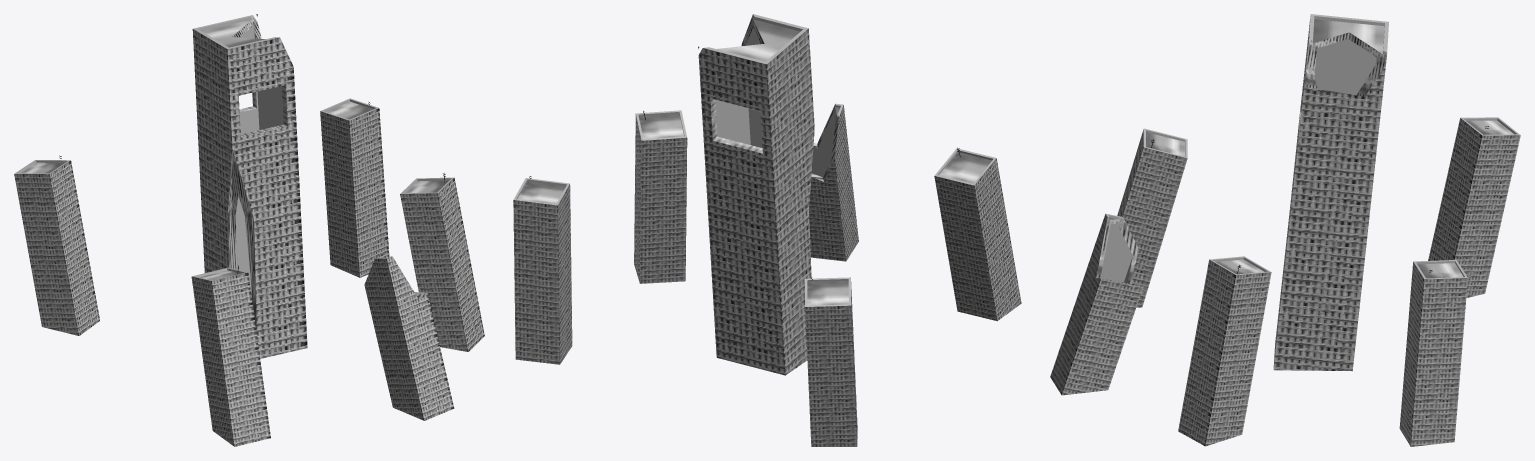
File: SM_UnderwaterCity.fbx
3 renders of one model, left to right at view 1: azimuth 30°, elevation 25°; view 2: azimuth 150°, elevation 25°; view 3: azimuth 270°, elevation 25°, orthographic. The views are drawn at different scales.
Parts seen in each view (by area): view 1: Cube.009, Cube.012, Cube.011, Cube.008, Cube.010, Buildings; view 2: Cube.009, Cube.008, Cube.011, Cube.010, Cube.012, Buildings; view 3: Cube.009, Cube.010, Cube.011, Cube.012, Buildings, Cube.008.
Boxes of the visible parts, x1,y1,x2,y2 form: Cube.009: (192,14,307,358); Cube.012: (14,155,99,335); Cube.011: (320,98,389,277); Cube.008: (191,265,270,446); Cube.010: (400,173,484,351); Buildings: (364,256,454,420); Cube.009: (698,14,814,375); Cube.008: (934,147,1021,321); Cube.011: (513,176,572,364); Cube.010: (634,110,687,283); Cube.012: (805,277,857,446); Buildings: (809,103,858,261); Cube.009: (1273,14,1388,371); Cube.010: (1178,256,1271,446); Cube.011: (1399,260,1467,446); Cube.012: (1428,117,1520,297); Buildings: (1050,213,1143,395); Cube.008: (1117,128,1187,307).
Size of the model in its own units: 15.18 by 13.04 by 17.2.
